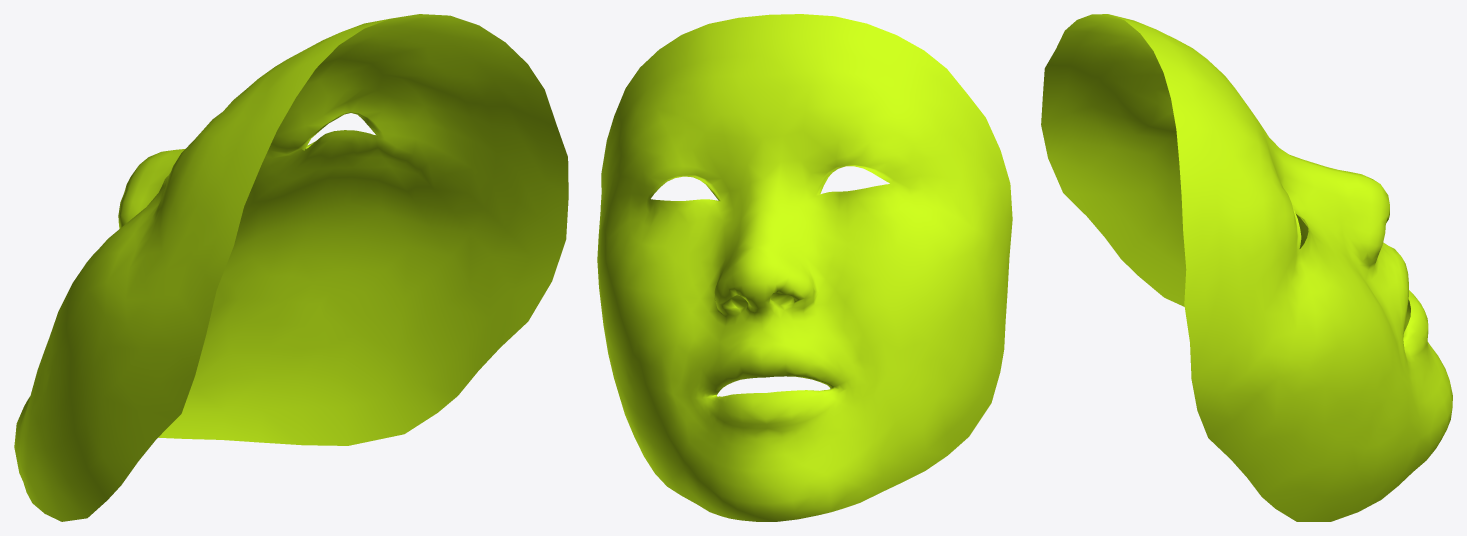
Rendered from FaceMeshBinary.fbx.
The picture shows the model from 3 angles, left to right: view 1: azimuth 30°, elevation 25°; view 2: azimuth 150°, elevation 25°; view 3: azimuth 270°, elevation 25°; orthographic projection. The views are drawn at different scales.
Parts seen in each view (by area): view 1: ARFace_B64B0E82BB76AF3F_FF93001C2EF954BD; view 2: ARFace_B64B0E82BB76AF3F_FF93001C2EF954BD; view 3: ARFace_B64B0E82BB76AF3F_FF93001C2EF954BD.
Boxes of the visible parts, <box> form: ARFace_B64B0E82BB76AF3F_FF93001C2EF954BD: <box>14,14,568,521</box>; ARFace_B64B0E82BB76AF3F_FF93001C2EF954BD: <box>597,14,1012,521</box>; ARFace_B64B0E82BB76AF3F_FF93001C2EF954BD: <box>1041,14,1452,521</box>.
Size of the model in its own units: 15.87 by 15.95 by 13.19.
